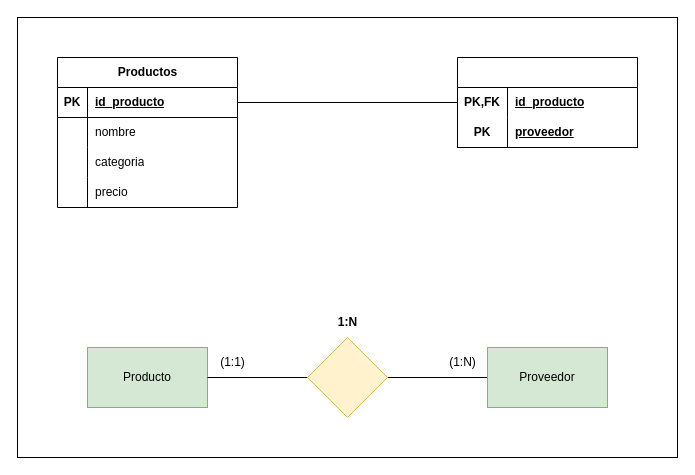
The diagram is 695 pixels wide and 475 high, and some of its shapes have lost their labels. The shapes that lost their labels are listed below. From the top down, each one's box as (x1, y1, x2, y2) in pixels, then its label:
(456, 56, 638, 148): Proveedores
(306, 336, 388, 418): suministrar
